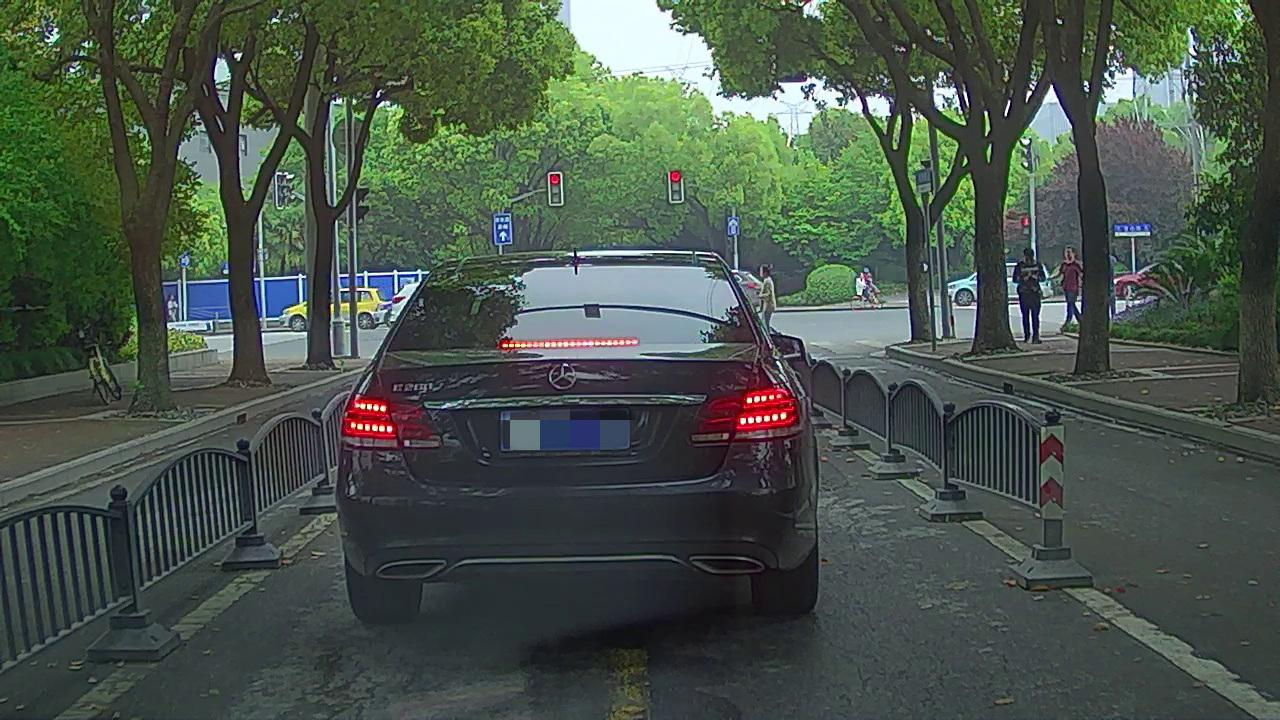traffic_light: (549, 174, 561, 205), (670, 171, 681, 201)
